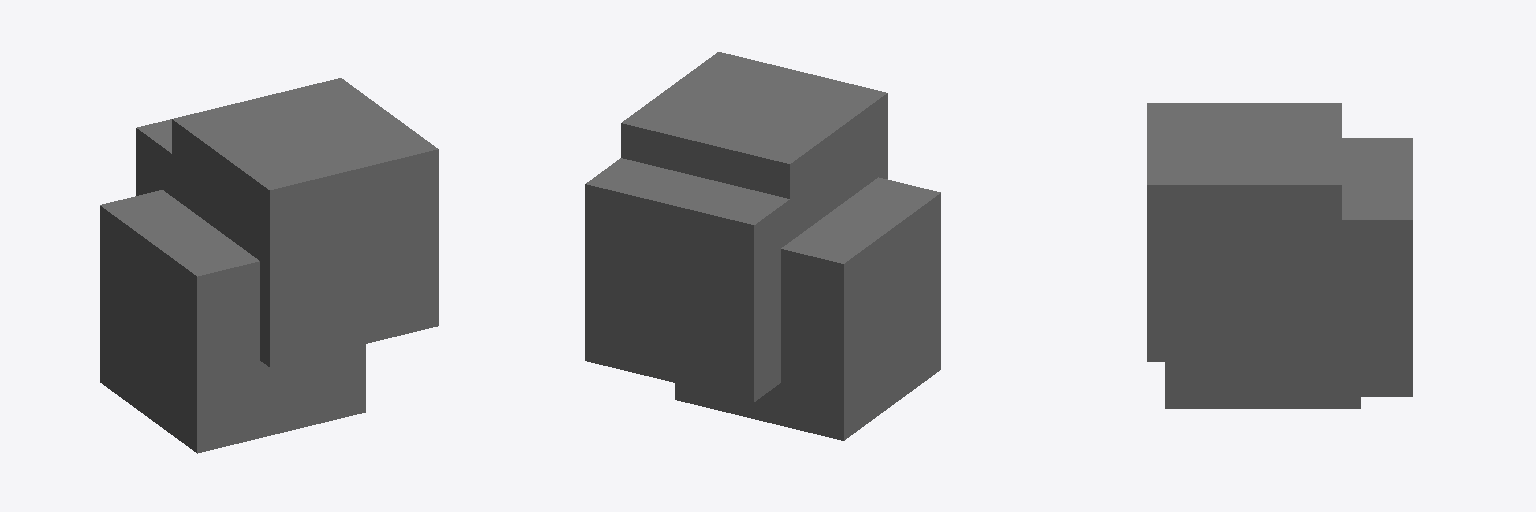
The model's file is asteroid.obj.
3 views of the same model, side by side, from view 1: azimuth 30°, elevation 25°; view 2: azimuth 150°, elevation 25°; view 3: azimuth 270°, elevation 25° (orthographic).
Parts seen in each view (by area): view 1: Asteroide; view 2: Asteroide; view 3: Asteroide.
Part boxes in pixels (left/top/right/bottom): Asteroide: left=100, top=78, right=438, bottom=453; Asteroide: left=585, top=52, right=940, bottom=440; Asteroide: left=1147, top=103, right=1412, bottom=408.
Size of the model in its own units: 0.0225 by 0.0236 by 0.0224.